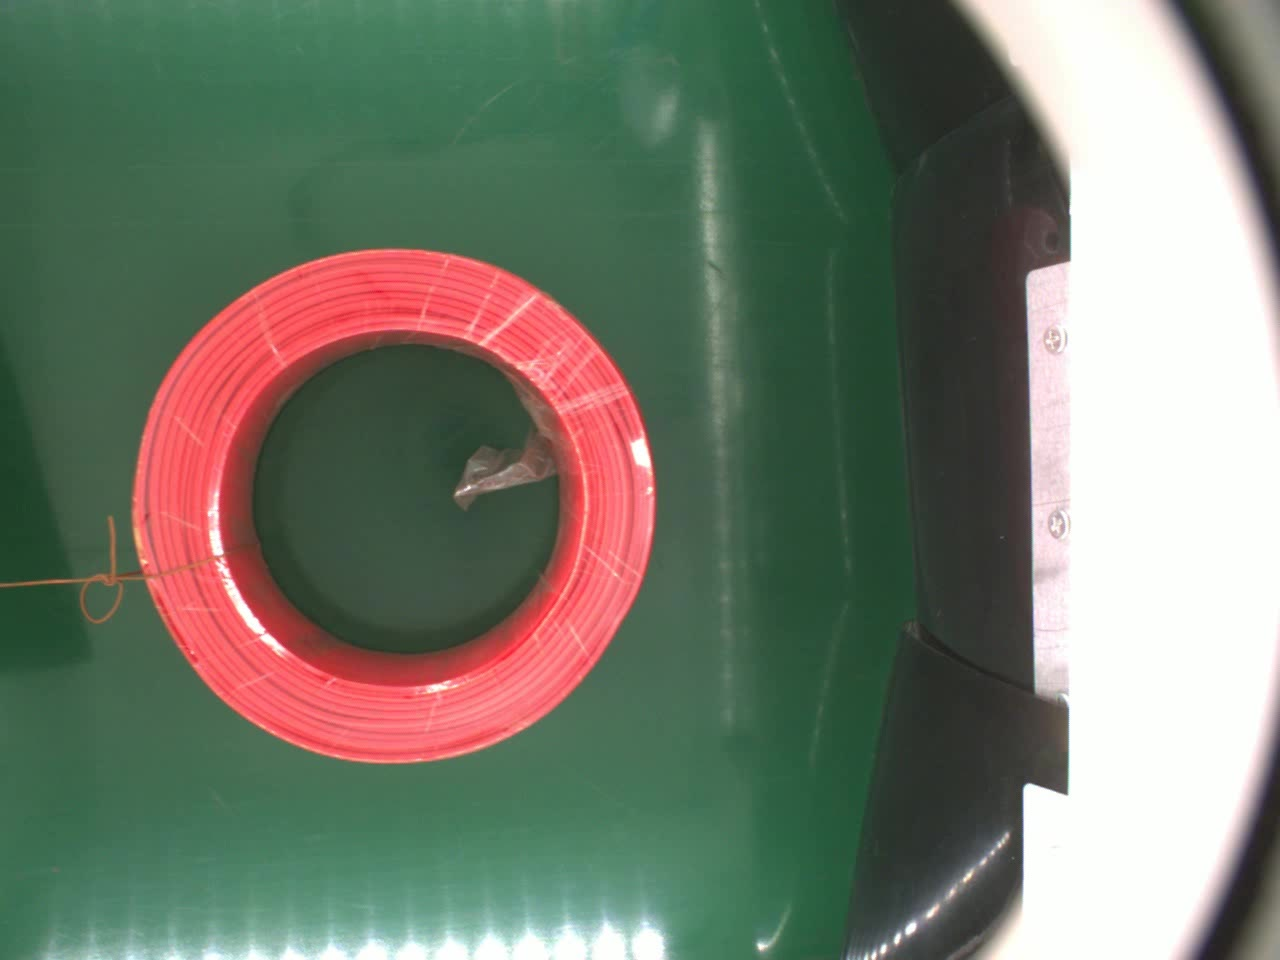red: (129, 244, 660, 764)
